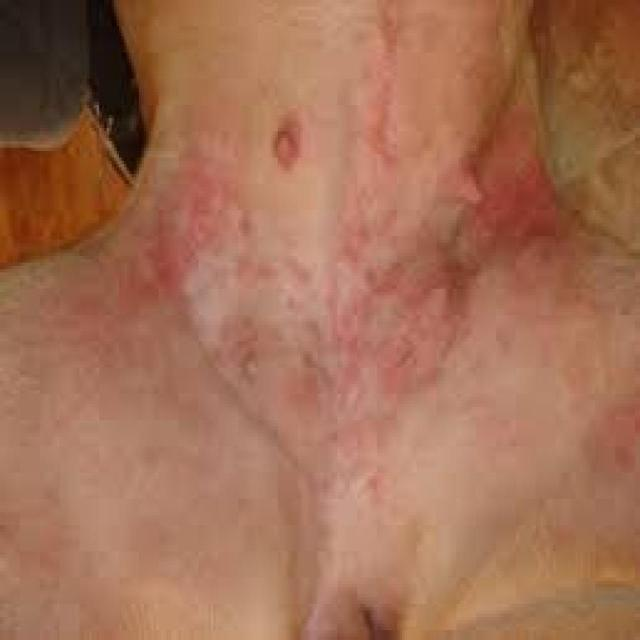allergic dermatitis: (331, 94, 458, 418), (111, 163, 207, 320), (462, 133, 548, 290)
